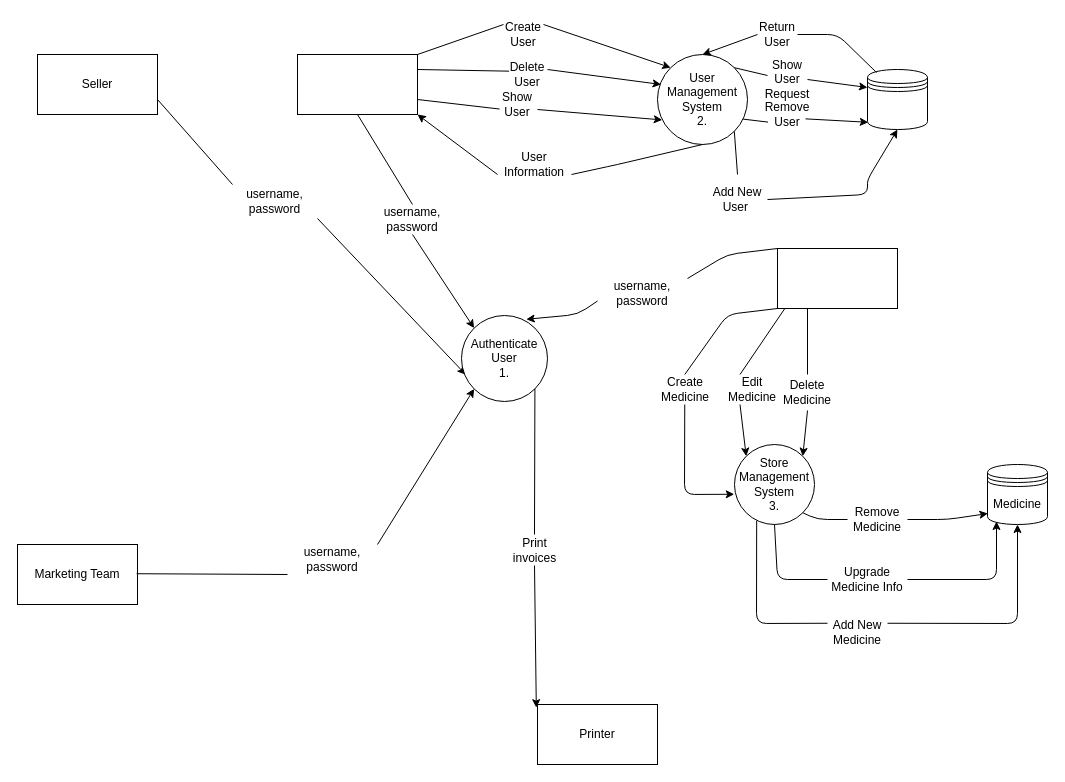
This 1065x782 diagram has some shape labels left out. The centre of each missing label's shape, as x and y in pixels:
Administrator: (x=357, y=84)
Storekeeper: (x=837, y=278)
User: (x=897, y=99)
